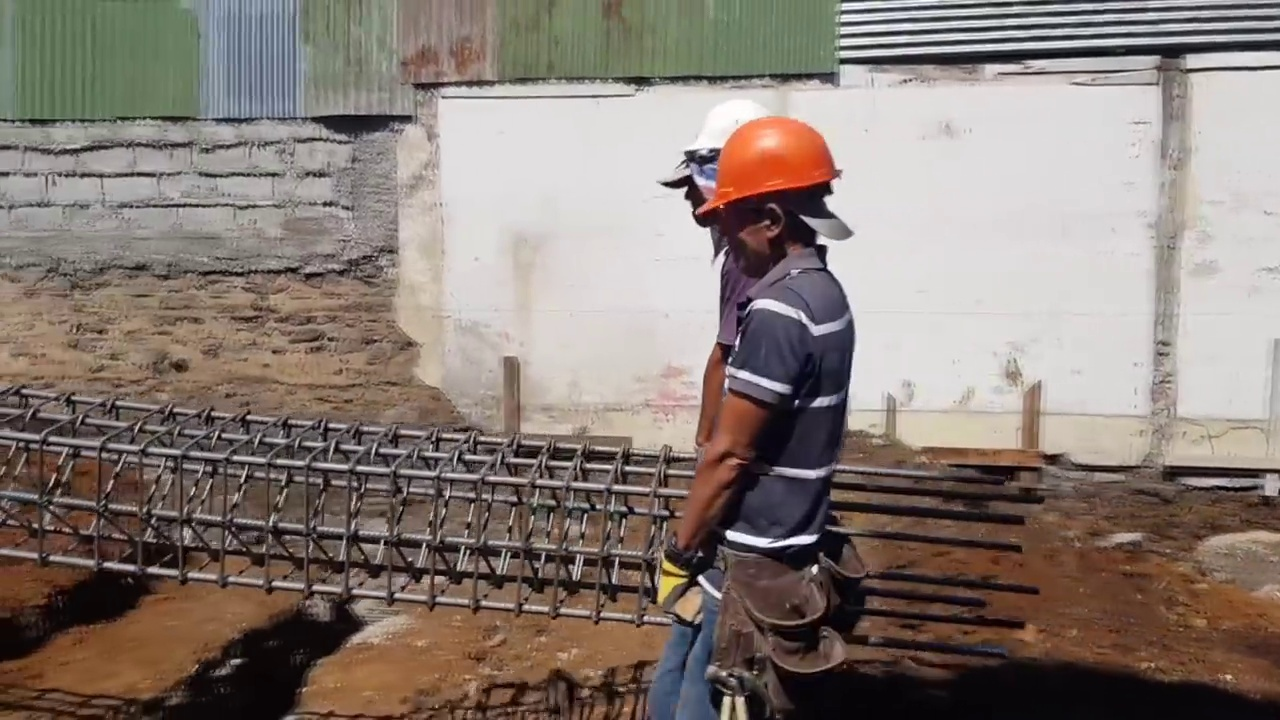helmet: (699, 109, 841, 214), (669, 114, 743, 179)
helmet-on: (699, 105, 847, 285), (659, 114, 741, 231)
person: (653, 83, 861, 707)
